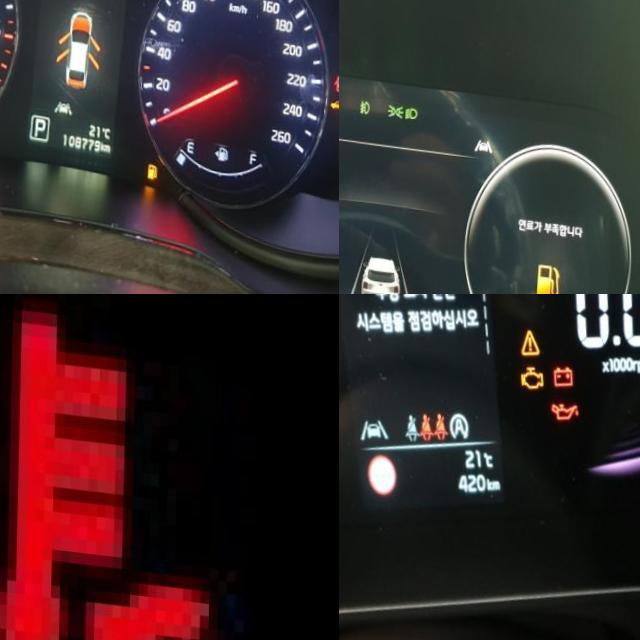Central Warning lamp: (518, 315, 540, 347)
Doors: (334, 57, 339, 77)
Engine cooling system: (0, 294, 215, 640)
FrontFogLight: (359, 90, 371, 107)
Low beam: (405, 96, 418, 111)
Low fuel level: (537, 250, 562, 287), (147, 151, 158, 170)
SideLamp: (387, 94, 404, 109)
